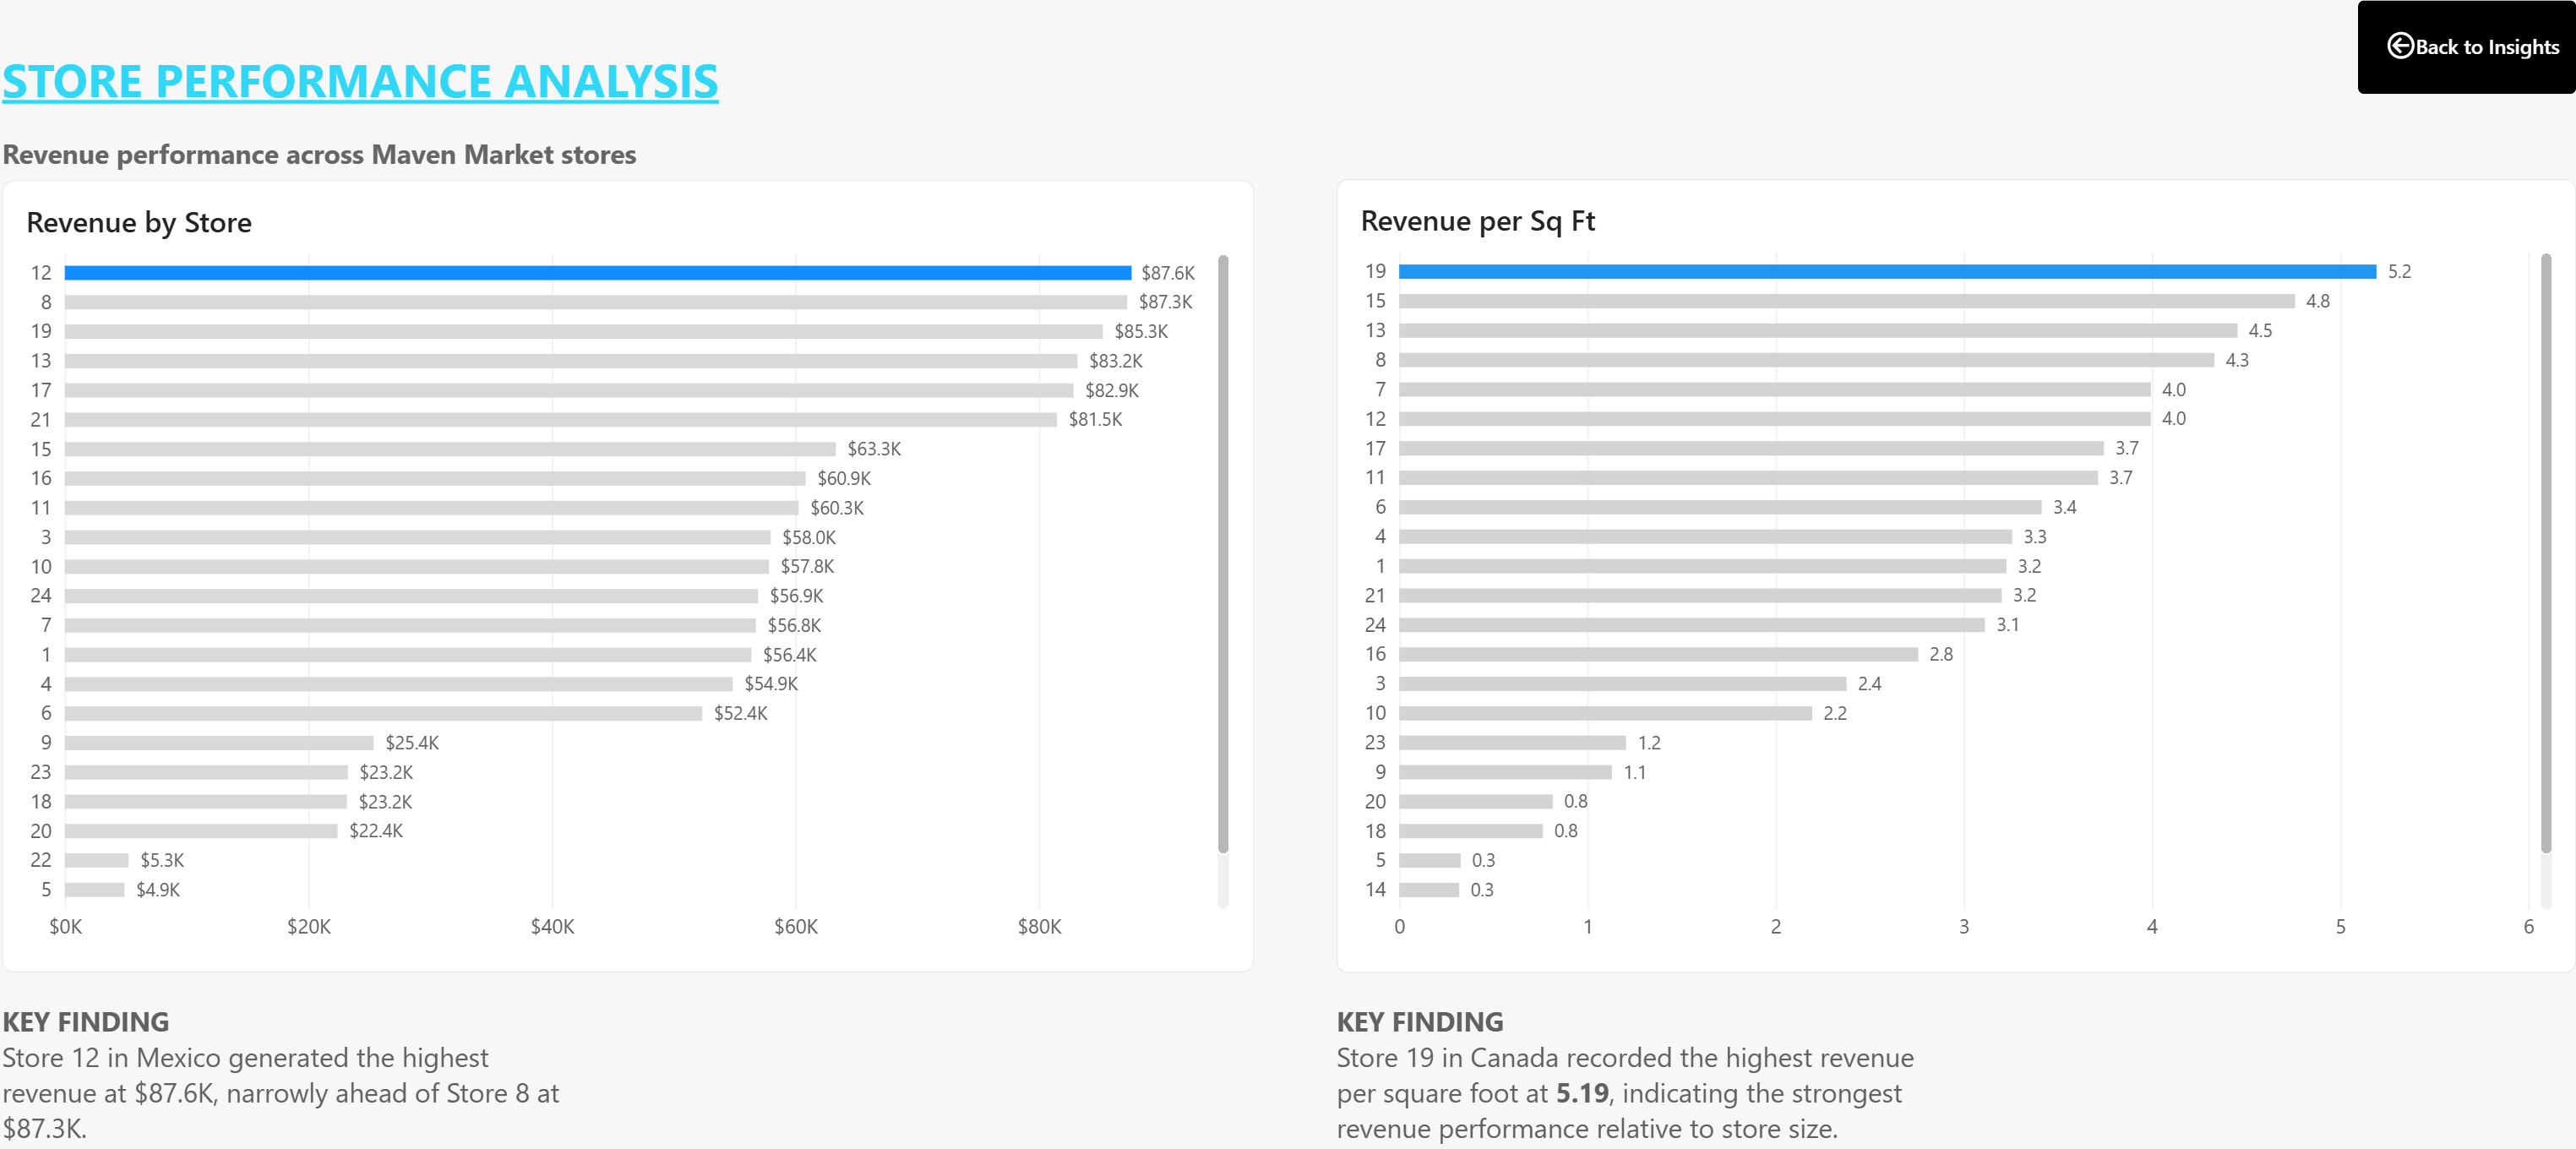

The page's visual inventory and layout, read from the dashboard file:
{"tool":"powerbi","page":{"name":"Store Analysis","canvas":[1920,1080],"ordinal":2},"visuals":[{"type":"clusteredBarChart","title":"Revenue by Store","fields":{"Category":["Stores.store_id"],"Y":["Measures (2).Total Revenue"]},"box":[59.2,163.7,872.6,552.3],"z":0},{"type":"textbox","box":[59.2,70.7,919.5,86.6],"z":1000},{"type":"textbox","box":[59.2,737.1,389.6,149.6],"z":2000},{"type":"actionButton","box":[1701.1,38.2,152.6,65.3],"z":3000},{"type":"clusteredBarChart","title":"Revenue per Sq Ft","fields":{"Category":["Stores.store_id"],"Y":["Measures (2).Revenue per Sq Ft"]},"box":[989.1,162.7,864.6,553.3],"z":4000},{"type":"textbox","box":[989.1,737.1,415.7,131.5],"z":4001}]}

Visuals, with their boxes on the page's 1920x1080 design canvas (x1, y1, x2, y2). These are canvas units, not pixel positions in the 2576x1149 screenshot, which may show the page scaled, cropped or inside an application window:
"Revenue by Store" clusteredBarChart: 59/164/932/716
textbox: 59/71/979/157
textbox: 59/737/449/887
actionButton: 1701/38/1854/104
"Revenue per Sq Ft" clusteredBarChart: 989/163/1854/716
textbox: 989/737/1405/869
